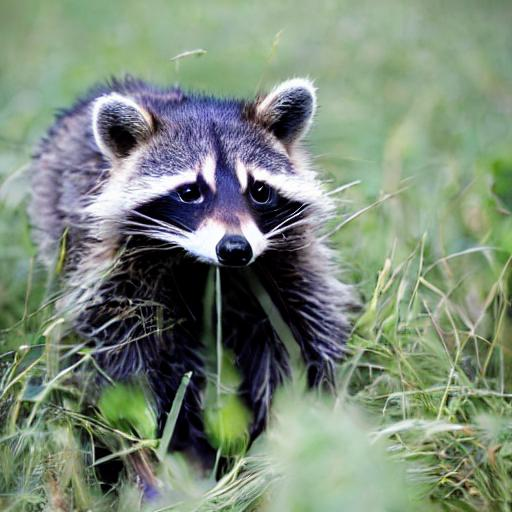raccoon: (21, 69, 371, 454)
